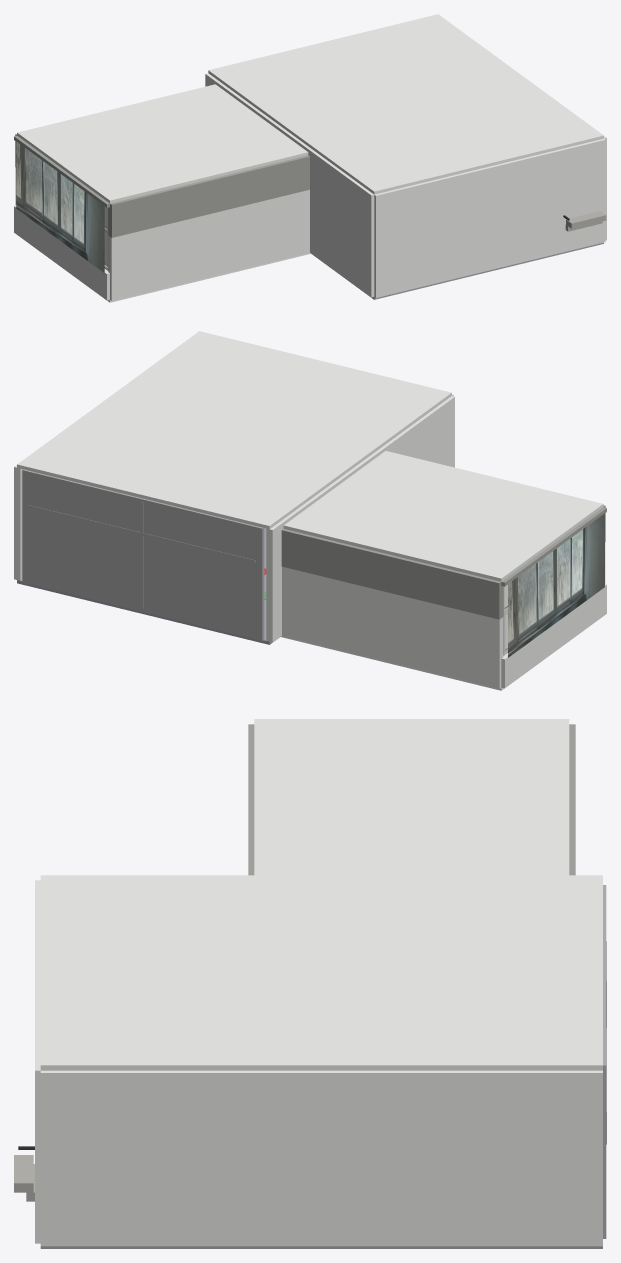
The model's file is meucci-tour.glb.
The picture shows the model from 3 angles, top to bottom: view 1: azimuth 30°, elevation 25°; view 2: azimuth 150°, elevation 25°; view 3: azimuth 270°, elevation 25°; orthographic projection. The views are drawn at different scales.
Parts seen in each view (by area): view 1: Atrio_Ceiling, Atrio_Wall_Back, Aula3_Ceiling, Aula3_Wall_NegY, Atrio_Wall_Left_A, Aula3_WallBack_Raw, Outside_PhotoBackdrop, Aula3_WinSillWall, Aula3_WinTopWall, Atrio_Floor, Stair_5, Aula3_Floor; view 2: Atrio_Ceiling, Glass_Frame, Aula3_Ceiling, Aula3_WallCat_Low, Aula3_WallCat_Raw, Outside_PhotoBackdrop, Atrio_Wall_Left_A, Aula3_WinSillWall, Atrio_Wall_Left_B, Atrio_Floor, Atrio_Wall_Right, Aula3_WinTopWall (+2 smaller); view 3: Atrio_Ceiling, Atrio_Wall_Right, Aula3_Ceiling, Atrio_Wall_Back, Atrio_Floor, Glass_Frame, Aula3_WallCat_Raw, Aula3_WallBack_Raw, Stair_5.
Boxes of the visible parts, x1,y1,x2,y2 form: Atrio_Ceiling: (208, 14, 603, 194); Atrio_Wall_Back: (374, 138, 605, 297); Aula3_Ceiling: (17, 84, 308, 203); Aula3_Wall_NegY: (108, 189, 309, 300); Atrio_Wall_Left_A: (243, 101, 374, 297); Aula3_WallBack_Raw: (108, 155, 309, 237); Outside_PhotoBackdrop: (16, 141, 104, 272); Aula3_WinSillWall: (14, 205, 109, 300); Aula3_WinTopWall: (14, 135, 109, 207); Atrio_Floor: (313, 242, 603, 299); Stair_5: (566, 211, 606, 228); Aula3_Floor: (107, 252, 310, 302); Atrio_Ceiling: (17, 331, 451, 529); Glass_Frame: (22, 469, 264, 640); Aula3_Ceiling: (283, 451, 603, 581); Aula3_WallCat_Low: (282, 566, 503, 688); Aula3_WallCat_Raw: (281, 529, 503, 619); Outside_PhotoBackdrop: (508, 513, 604, 657); Atrio_Wall_Left_A: (312, 396, 454, 502); Aula3_WinSillWall: (501, 584, 606, 688); Atrio_Wall_Left_B: (266, 512, 296, 642); Atrio_Floor: (17, 528, 279, 644); Atrio_Wall_Right: (14, 465, 22, 580); Aula3_WinTopWall: (501, 507, 606, 586); Atrio_Ceiling: (40, 875, 602, 1070); Atrio_Wall_Right: (40, 1070, 602, 1246); Aula3_Ceiling: (254, 719, 569, 875); Atrio_Wall_Back: (35, 880, 40, 1243); Atrio_Floor: (40, 1246, 602, 1248); Glass_Frame: (603, 885, 606, 1238); Aula3_WallCat_Raw: (569, 724, 575, 875); Aula3_WallBack_Raw: (248, 724, 254, 875); Stair_5: (14, 1155, 33, 1192).
Size of the model in its own units: 15.22 by 3.6 by 10.55.
31 materials, 1 textured.
